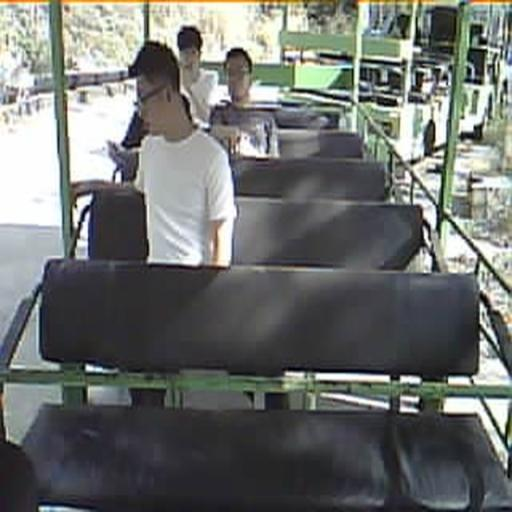persona: (128, 40, 238, 267), (210, 46, 280, 158), (177, 26, 219, 130), (122, 94, 198, 146)
